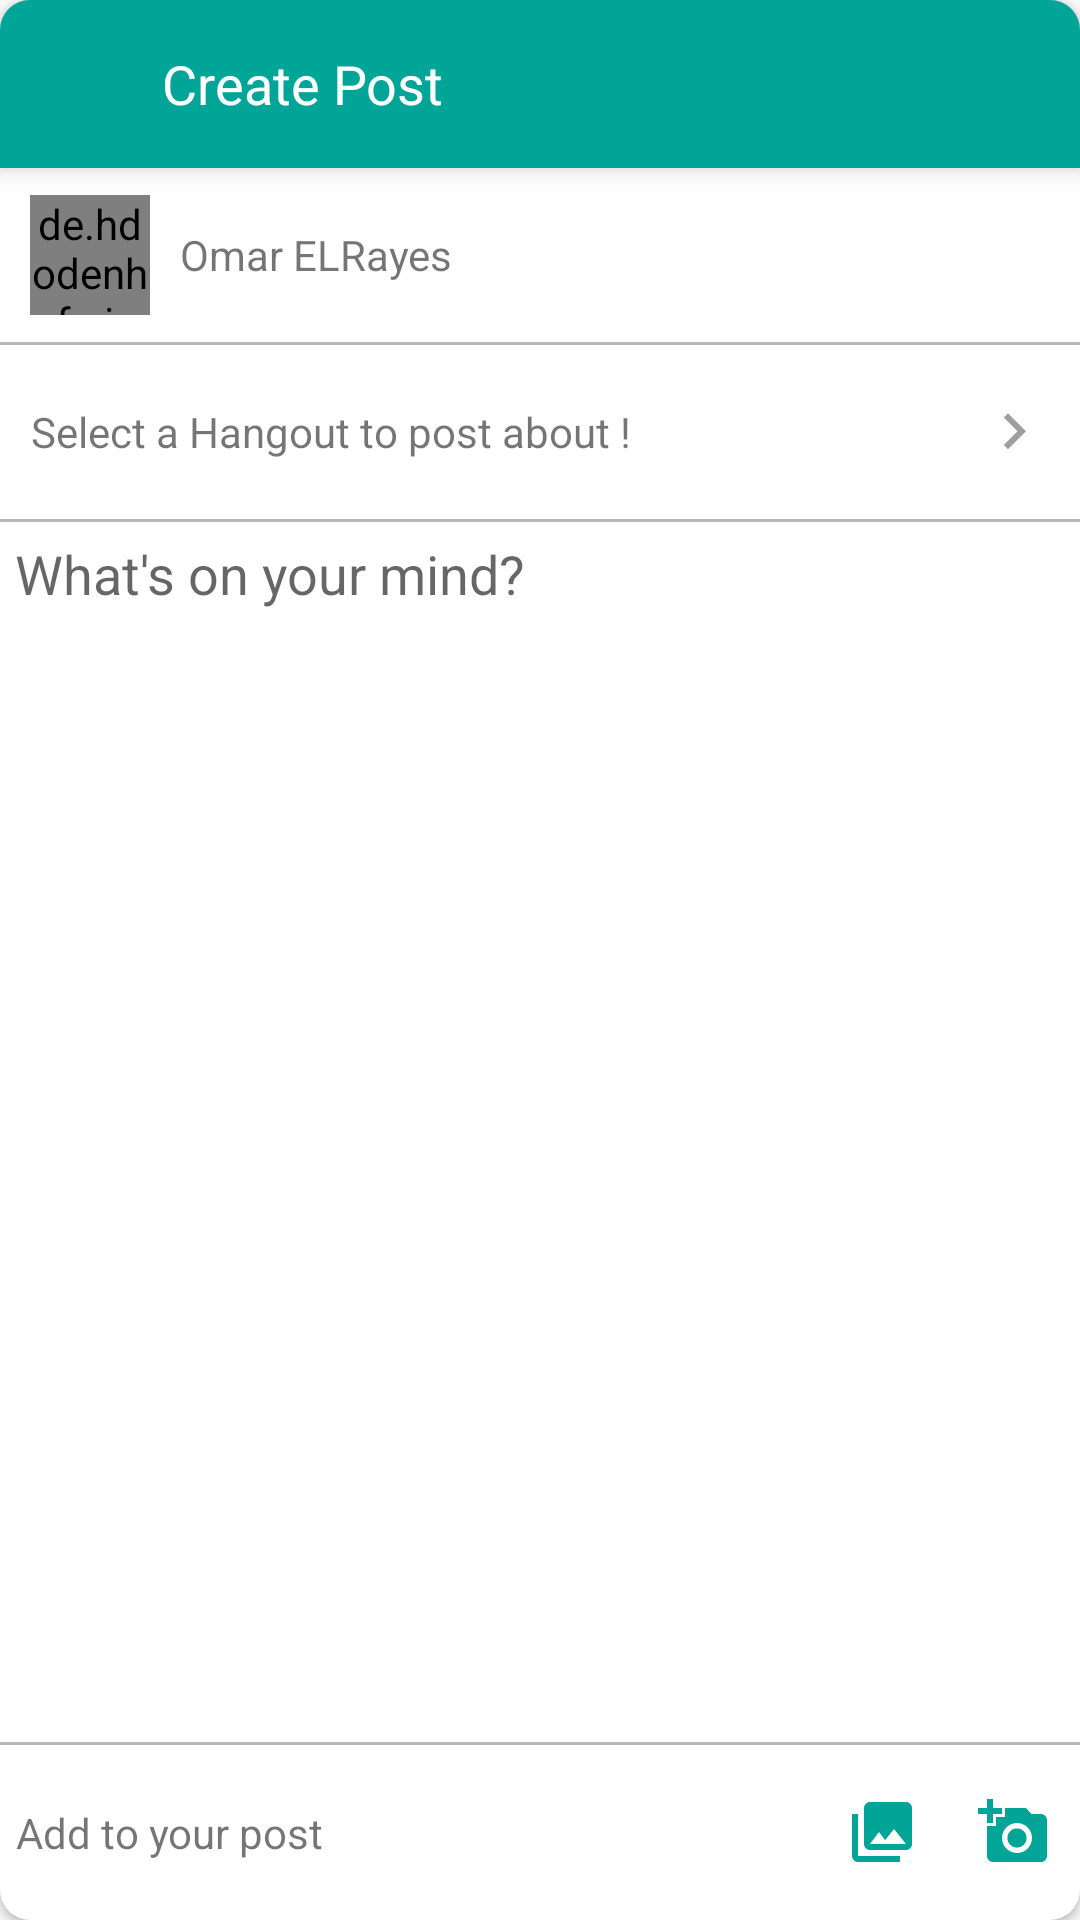

Where to tap for icons on this 1080*1920 app screen, as (x=x, y=y):
add photo camera: (x=1012, y=1830)
add photo gallery: (x=882, y=1832)
next arrow: (x=1015, y=431)
